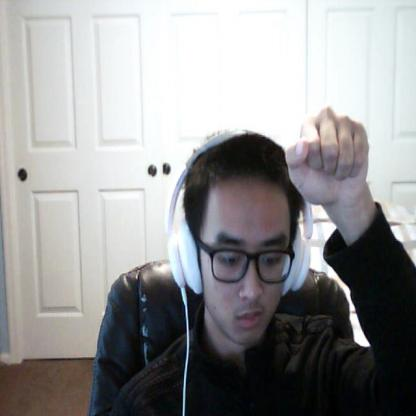fist: (281, 102, 375, 216)
